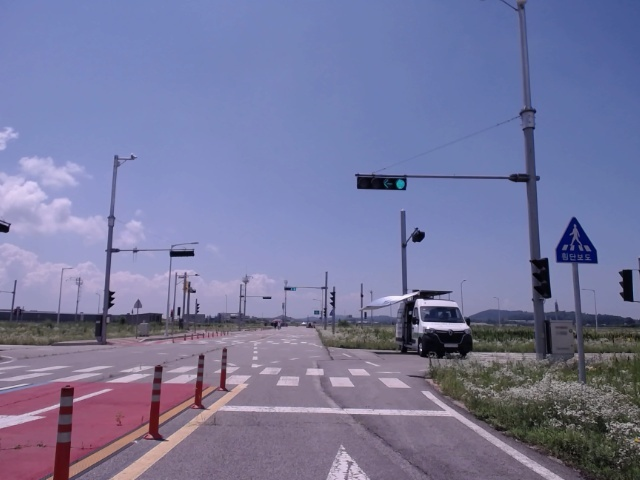all_green_4: (355, 174, 407, 191)
